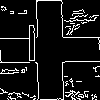I: (25, 25, 39, 71)
